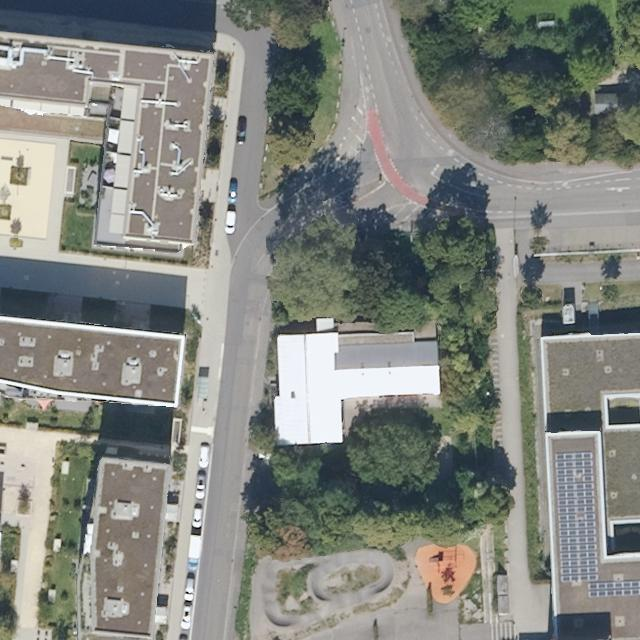PV: (554, 449, 600, 583), (587, 577, 639, 598)
